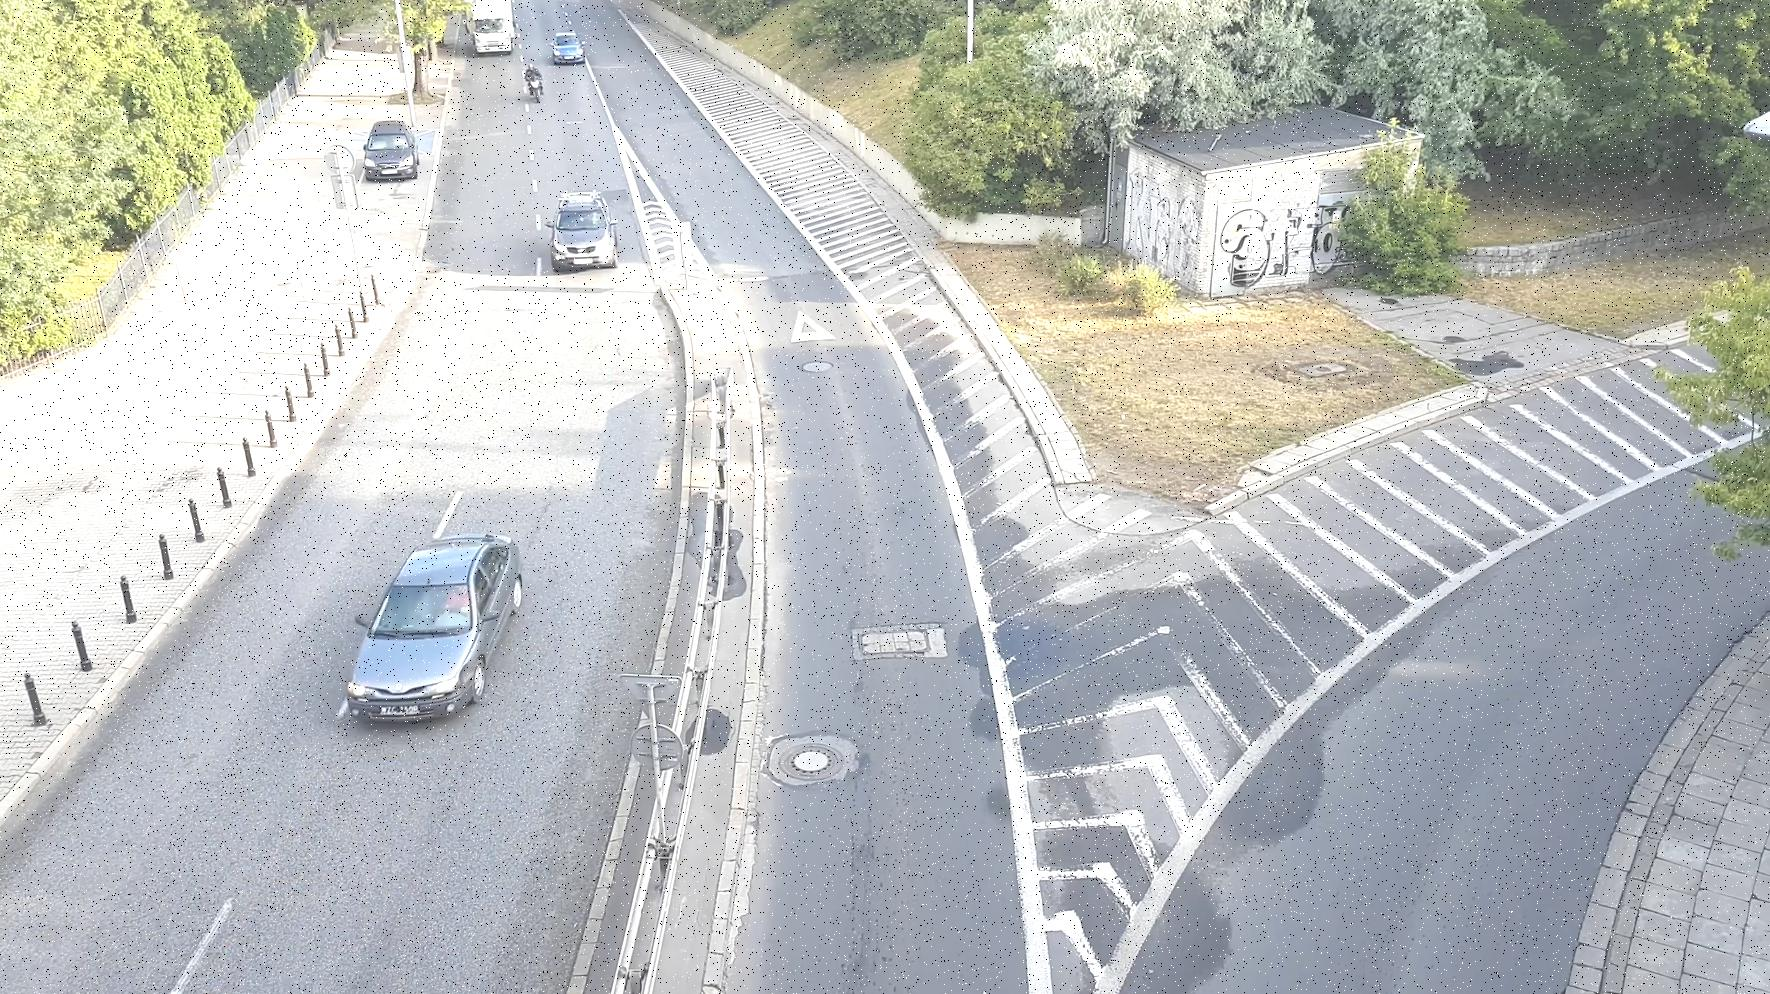bike: (519, 55, 547, 100)
bus: (463, 0, 515, 62)
car: (336, 525, 537, 728), (541, 180, 626, 273), (360, 114, 428, 187), (542, 24, 590, 68)
